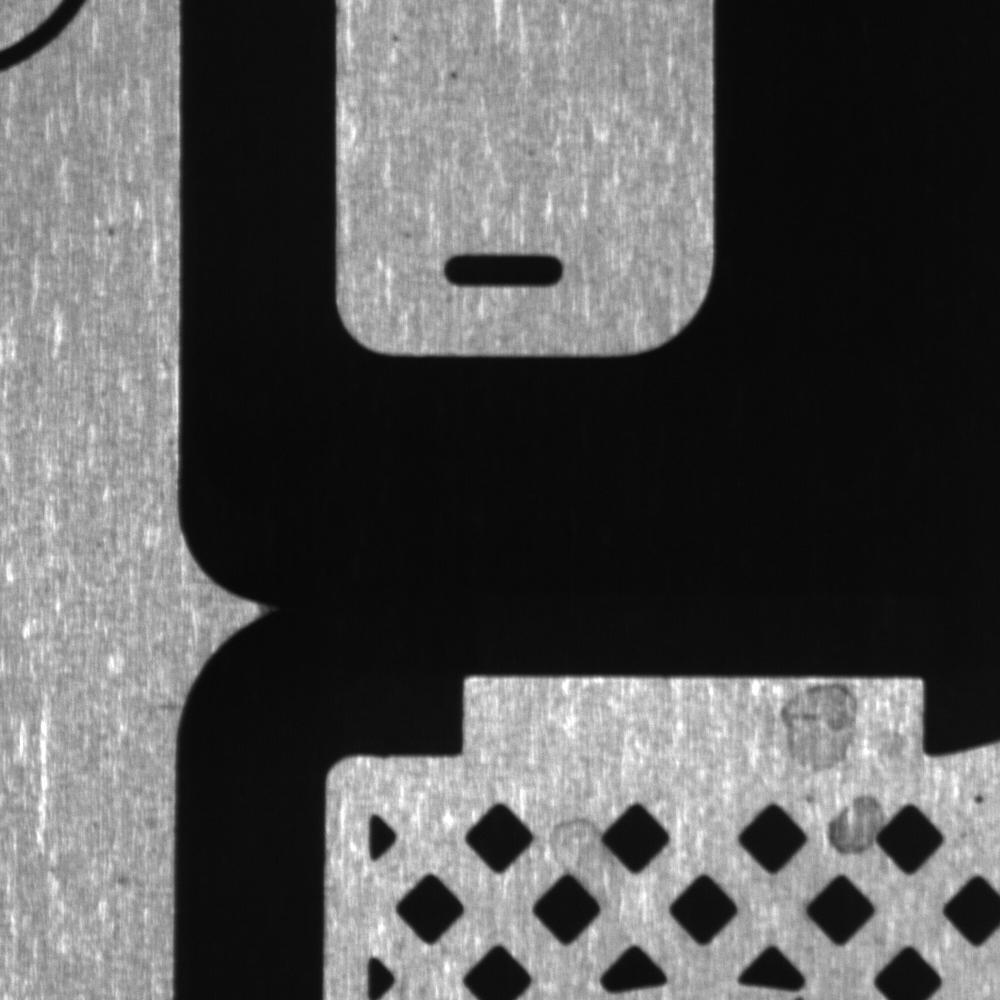Discolor: (757, 684, 880, 774), (536, 800, 634, 893), (815, 791, 909, 868)
Pinhole: (81, 209, 145, 257), (435, 41, 484, 101), (957, 773, 997, 821), (371, 18, 418, 58), (390, 209, 430, 254)
